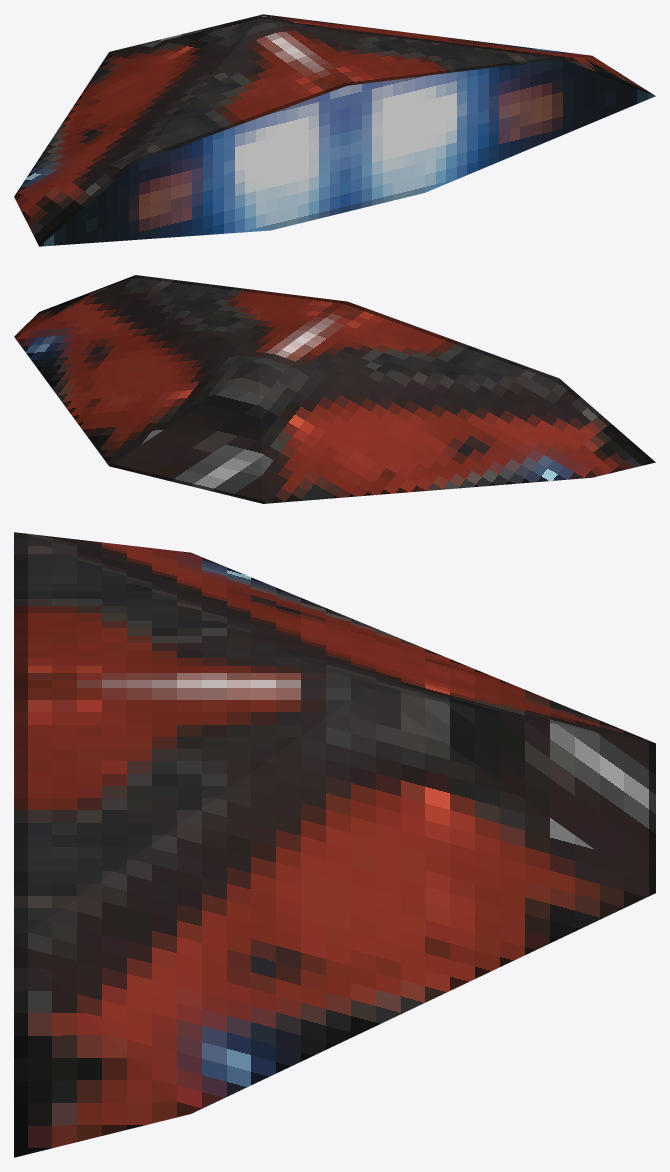
Rendered from COBRA.obj.
3 renders of one model, top to bottom at view 1: azimuth 30°, elevation 25°; view 2: azimuth 150°, elevation 25°; view 3: azimuth 270°, elevation 25°, orthographic. The views are drawn at different scales.
Visible parts, largest first — view 1: COBRA.obj; view 2: COBRA.obj; view 3: COBRA.obj.
Part boxes in pixels (x1,y1,x2,y2): COBRA.obj: [14, 14, 655, 246]; COBRA.obj: [14, 275, 655, 503]; COBRA.obj: [14, 532, 655, 1157].
Size of the model in its own units: 6.91 by 1.35 by 3.13.
